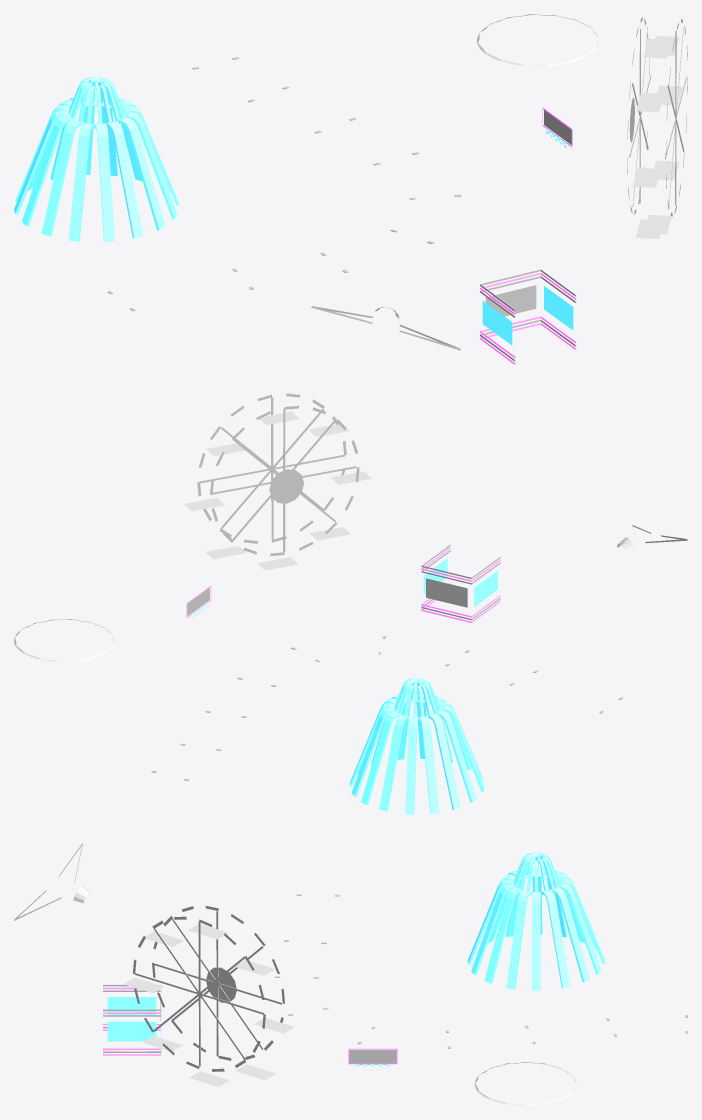
The model's file is R1Light.fbx.
3 views of the same model, one above another, from view 1: azimuth 30°, elevation 25°; view 2: azimuth 150°, elevation 25°; view 3: azimuth 270°, elevation 25° (orthographic). The views are drawn at different scales.
Visible parts, largest first — view 1: Plane.002; view 2: Plane.002; view 3: Plane.002.
Boxes of the visible parts, x1=… form: Plane.002: x1=14, y1=14, x2=687, y2=364; Plane.002: x1=14, y1=393, x2=687, y2=814; Plane.002: x1=14, y1=843, x2=687, y2=1105.
Bounding box in the file's own units: 15183 × 5870 × 17852.
